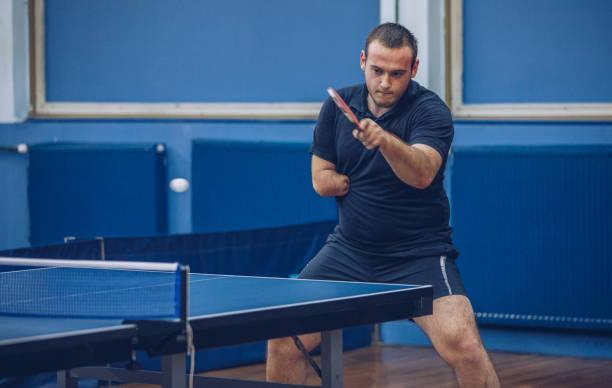ball_pingpong: (169, 174, 190, 195), (16, 142, 27, 155)
